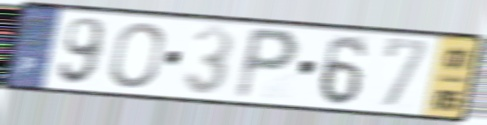3: (181, 22, 237, 99)
6: (319, 33, 370, 108)
7: (379, 36, 434, 113)
9: (57, 16, 108, 87)
O: (107, 20, 167, 91)
P: (231, 24, 303, 103)
